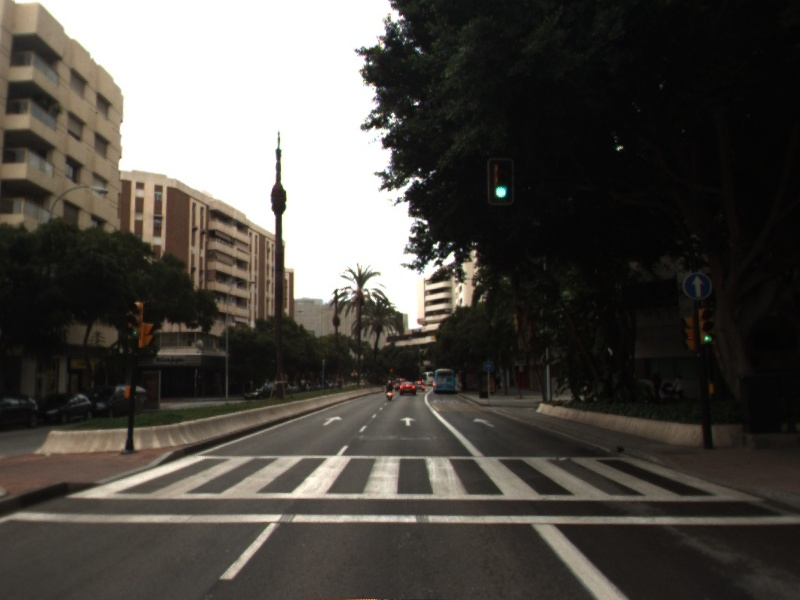STRAIGHT: (471, 416, 498, 430), (320, 414, 345, 427), (398, 415, 419, 428)
